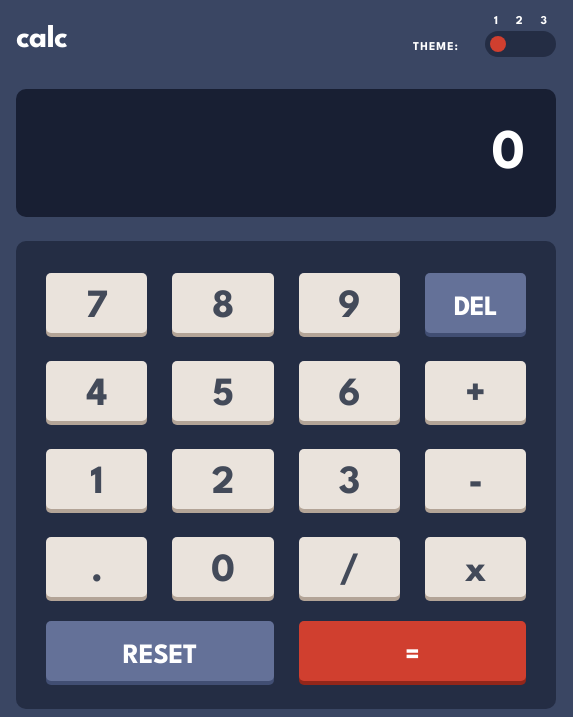
Test: Validate all possible math › While using desktop size › When clicked on 9 * 6 and =, then should display 54 as result
Click the button with test id "numpad-id-9".
click(350, 303)  # box [299, 273, 400, 333]
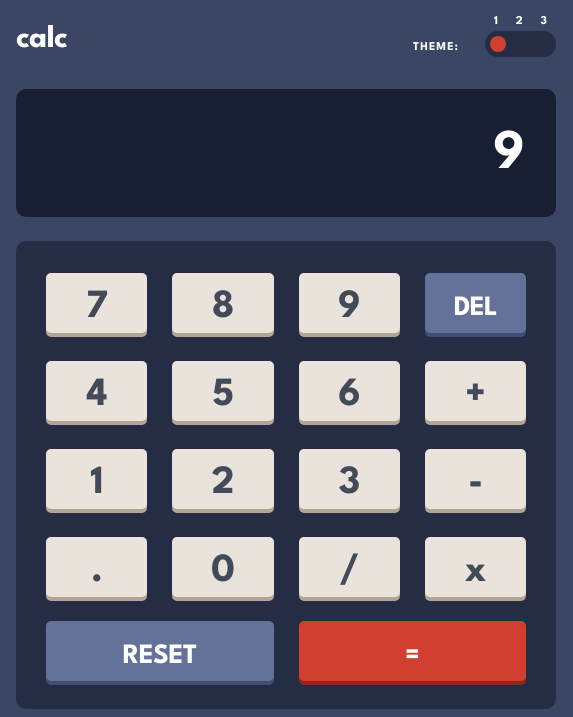
Click the button with test id "numpad-id-x".
click(476, 567)  # box [425, 537, 526, 597]
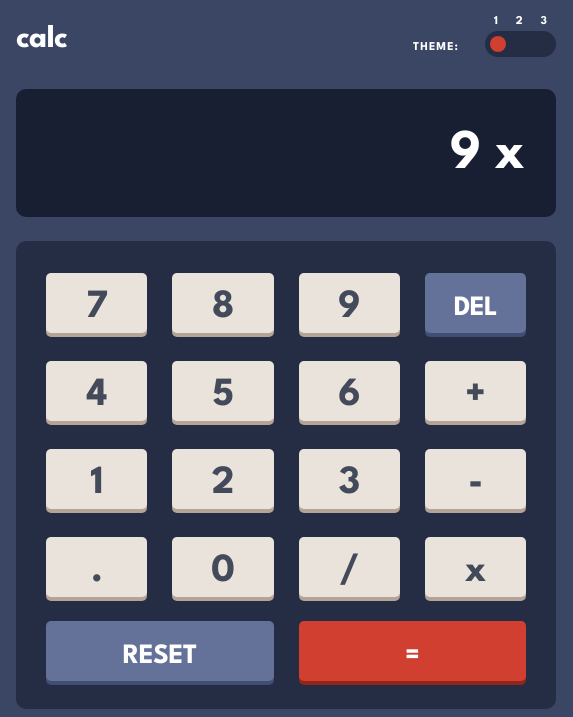
Click the button with test id "numpad-id-6".
click(350, 391)  # box [299, 361, 400, 421]
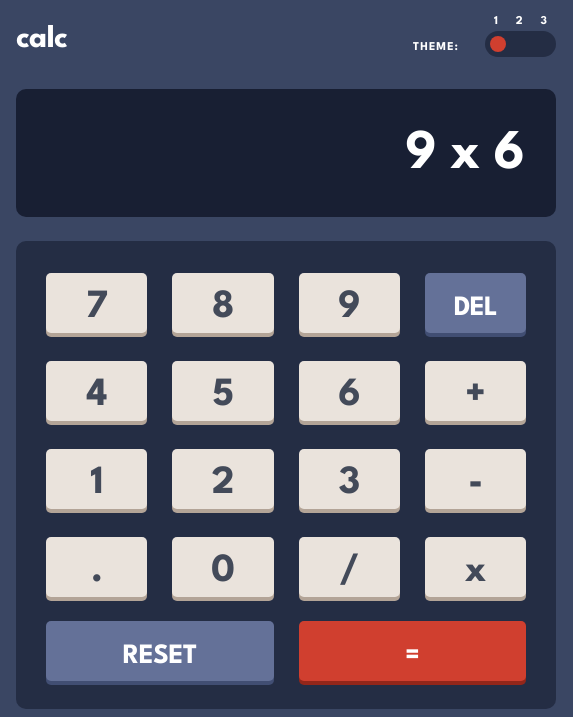
Click the button with test id "numpad-id-=".
click(413, 651)  # box [299, 621, 527, 681]
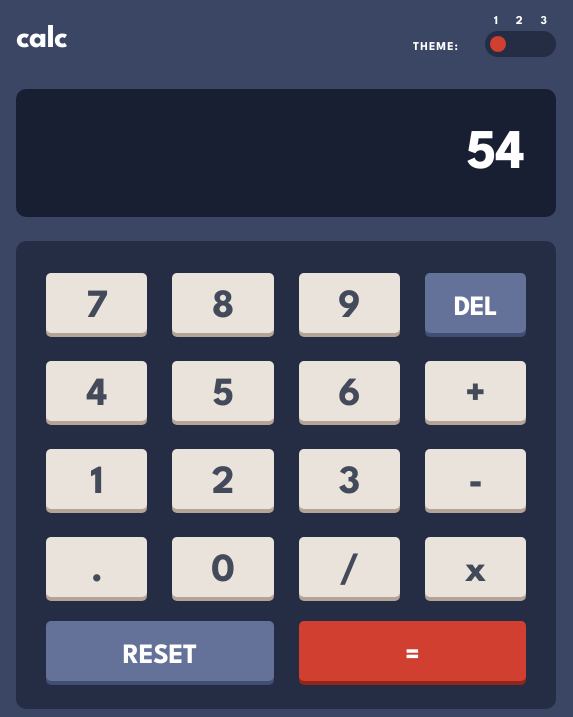
Expected: the heading with test id "result-display" reads "54", [16, 89, 556, 217]
